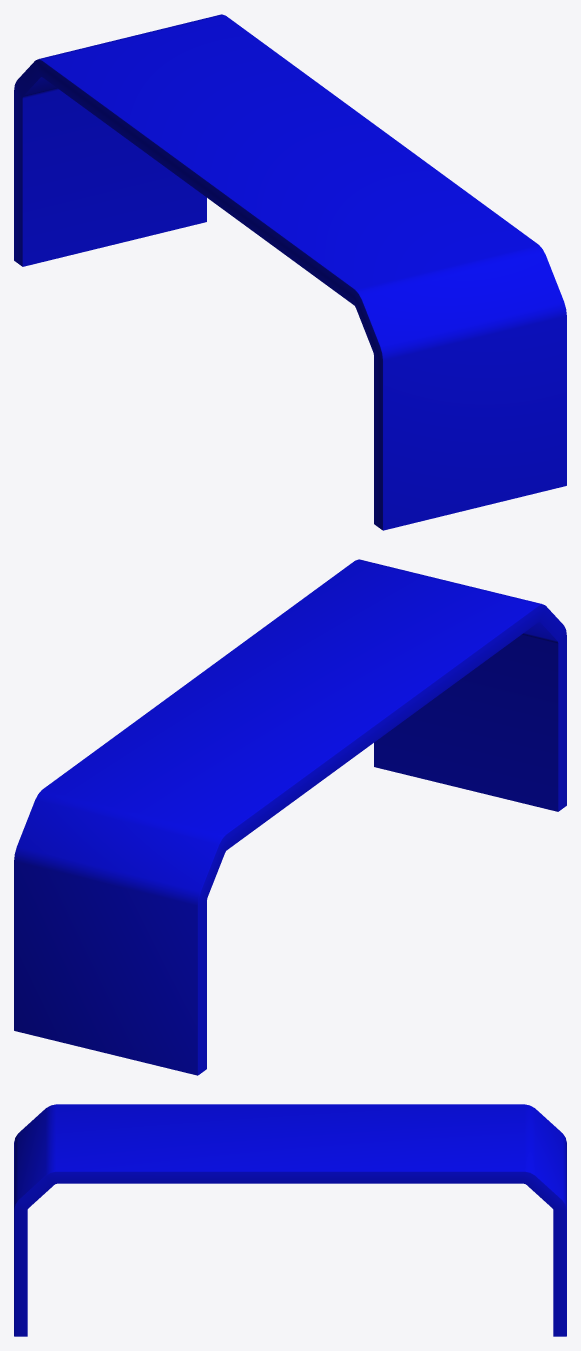
Rendered from Bench.FBX.
The picture shows the model from 3 angles, top to bottom: view 1: azimuth 30°, elevation 25°; view 2: azimuth 150°, elevation 25°; view 3: azimuth 270°, elevation 25°; orthographic projection. The views are drawn at different scales.
Visible parts, largest first — view 1: Bench_Low; view 2: Bench_Low; view 3: Bench_Low.
Boxes of the visible parts, bbox=[...] form: Bench_Low: bbox=[14, 14, 566, 530]; Bench_Low: bbox=[14, 559, 566, 1075]; Bench_Low: bbox=[14, 1104, 566, 1336].
Size of the model in its own units: 15.11 by 17.28 by 52.45.
